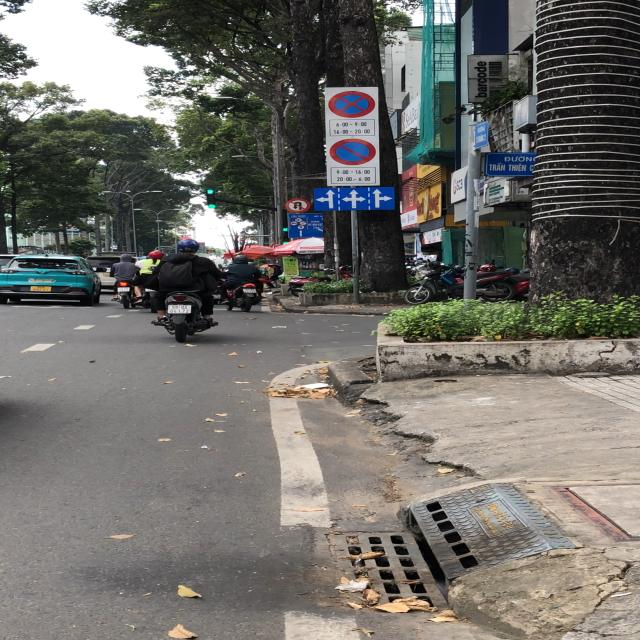Bien bao cam do xe: (328, 136, 382, 168)
Bien bao cam dung xe va do xe: (324, 88, 382, 122)
Bien bao cam quay dau xe: (283, 197, 311, 213)
